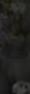cylinder: (0, 1, 30, 94)
